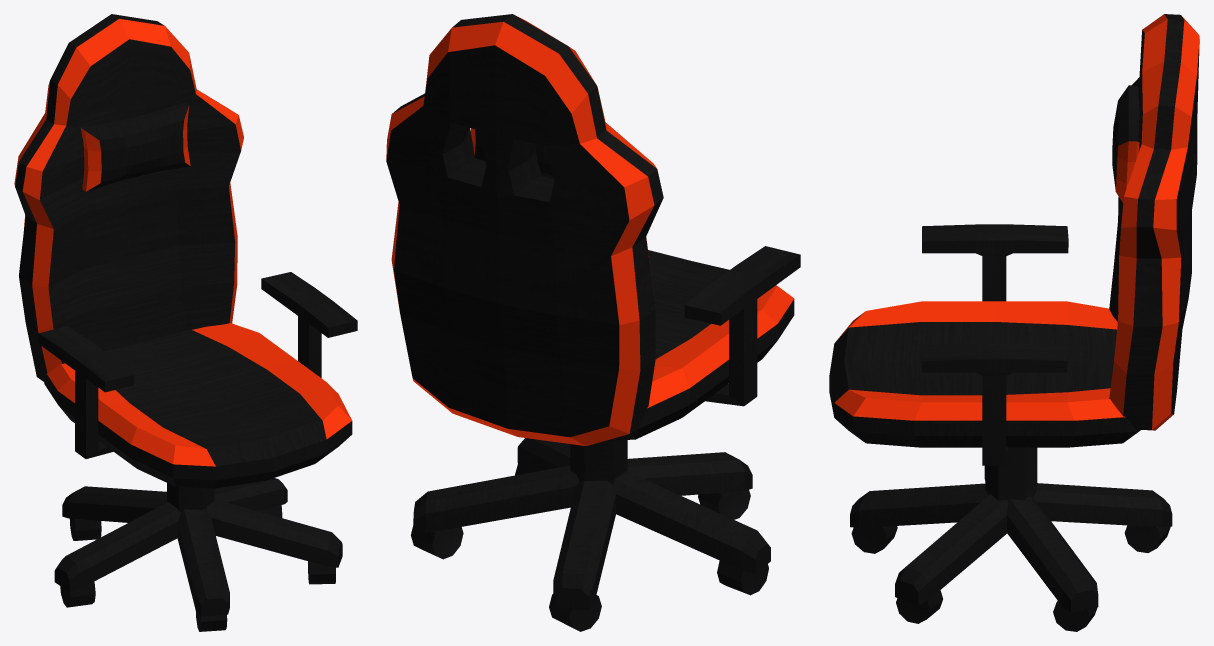
The model's file is gamingChair.gltf.
3 renders of one model, left to right at view 1: azimuth 30°, elevation 25°; view 2: azimuth 150°, elevation 25°; view 3: azimuth 270°, elevation 25°, orthographic. The views are drawn at different scales.
Visible parts, largest first — view 1: gamingChair; view 2: gamingChair; view 3: gamingChair.
Boxes of the visible parts, x1,y1,x2,y2 form: gamingChair: (14,14,357,631); gamingChair: (386,14,800,631); gamingChair: (829,14,1199,631).
Size of the model in its own units: 0.6974 by 1.29 by 0.7882.
Materials: 2 (2 with a texture image).
